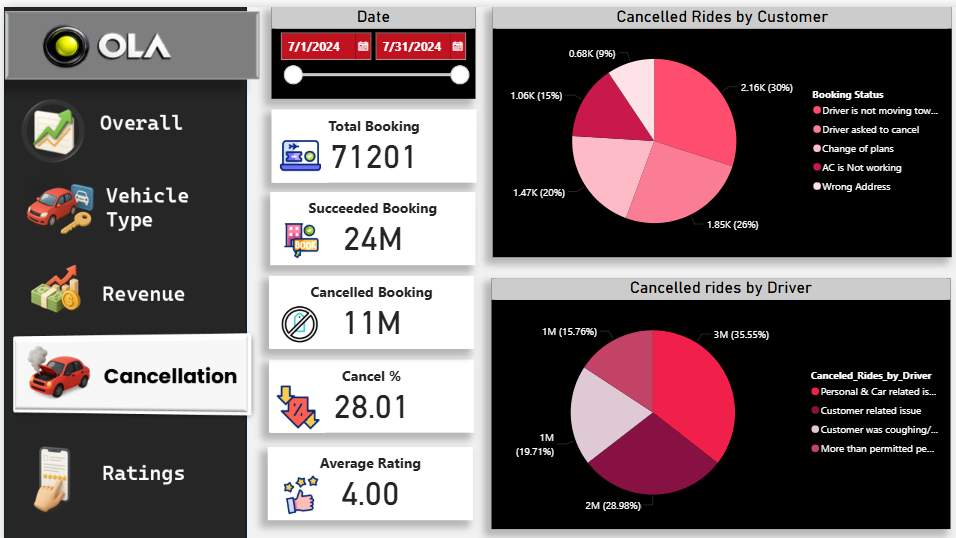

What the dashboard file says about the page in this screenshot:
{"tool":"powerbi","page":{"name":"Cancellation ","canvas":[1280,720],"ordinal":3},"visuals":[{"type":"actionButton","box":[0,225,325.2,97.4],"z":0},{"type":"actionButton","box":[0,333.4,325.2,97.4],"z":1000},{"type":"actionButton","box":[0,566.7,325.2,116.6],"z":2000},{"type":"actionButton","box":[0,115.3,325.2,97.4],"z":3000},{"type":"pieChart","title":"Cancelled Rides by Customer","fields":{"Category":["Data.Canceled_Rides_by_Customer"],"Y":["CountNonNull(Data.Canceled_Rides_by_Customer)"]},"box":[651.4,0,612.2,333.8],"z":4000},{"type":"pieChart","title":"Cancelled rides by Driver","fields":{"Category":["Data.Canceled_Rides_by_Driver"],"Y":["Sum(Data.Booking_Value)"]},"box":[650.7,361.9,611.8,334.3],"z":5000},{"type":"slicer","title":"Date","fields":{"Values":["Data.Date"]},"box":[356.8,0,271.7,122.1],"z":6000},{"type":"group","id":"g1","title":"Group 1","box":[356.8,136.2,273.6,97.8],"z":7000},{"type":"card","title":"Total Booking","fields":{"Values":["Count(Data.Booking_ID)"]},"box":[356.8,136.2,273.6,97.2],"z":7000,"group":"g1"},{"type":"card","title":"Succeeded Booking","fields":{"Values":["Sum(Data.Booking_Value)"]},"box":[355.4,247.3,273.6,97.2],"z":7000,"group":"g2"},{"type":"card","title":"Cancelled Booking","fields":{"Values":["Sum(Data.Booking_Value)"]},"box":[354,358.5,273.6,97.2],"z":7000,"group":"g5"},{"type":"card","title":"Cancel %","fields":{"Values":["Data.cancel%"]},"box":[352.7,469.3,273.6,97.2],"z":7000,"group":"g3"},{"type":"card","title":"Average Rating","fields":{"Values":["Avg(Data (2).Driver_Ratings)"]},"box":[351.3,585.9,273.6,97.2],"z":7000,"group":"g4"},{"type":"group","id":"g2","title":"Group 1","box":[355.4,247.3,273.6,97.2],"z":8000},{"type":"image","box":[356.9,161.2,77.1,72.9],"z":9000,"group":"g1"},{"type":"image","box":[356.2,279.8,81,64.5],"z":9000,"group":"g2"},{"type":"image","box":[354.8,391,81,64.5],"z":9000,"group":"g5"},{"type":"group","id":"g3","title":"Group 1","box":[352.7,469.3,273.6,97.8],"z":9000},{"type":"image","box":[352.8,494.3,77.1,72.9],"z":9000,"group":"g3"},{"type":"image","box":[357.8,617.5,74.1,65.9],"z":9000,"group":"g4"},{"type":"group","id":"g4","title":"Group 1","box":[351.3,585.9,273.6,97.5],"z":10000},{"type":"group","id":"g5","title":"Group 1","box":[354,358.5,274.4,96.1],"z":11000}]}

Visuals, with their boxes in screenshot pixels (x1, y1, x2, y2), scaled from the page's 1280x720 canvas onto the 956x538 screenshot:
actionButton: l=0, t=168, r=243, b=241
actionButton: l=0, t=249, r=243, b=322
actionButton: l=0, t=423, r=243, b=511
actionButton: l=0, t=86, r=243, b=159
"Cancelled Rides by Customer" pieChart: l=487, t=0, r=944, b=249
"Cancelled rides by Driver" pieChart: l=486, t=270, r=943, b=520
"Date" slicer: l=266, t=0, r=469, b=91
"Group 1" group: l=266, t=102, r=471, b=175
"Total Booking" card: l=266, t=102, r=471, b=174
"Succeeded Booking" card: l=265, t=185, r=470, b=257
"Cancelled Booking" card: l=264, t=268, r=469, b=341
"Cancel %" card: l=263, t=351, r=468, b=423
"Average Rating" card: l=262, t=438, r=467, b=510
"Group 1" group: l=265, t=185, r=470, b=257
image: l=267, t=120, r=324, b=175
image: l=266, t=209, r=327, b=257
image: l=265, t=292, r=325, b=340
"Group 1" group: l=263, t=351, r=468, b=424
image: l=263, t=369, r=321, b=424
image: l=267, t=461, r=323, b=511
"Group 1" group: l=262, t=438, r=467, b=511
"Group 1" group: l=264, t=268, r=469, b=340
